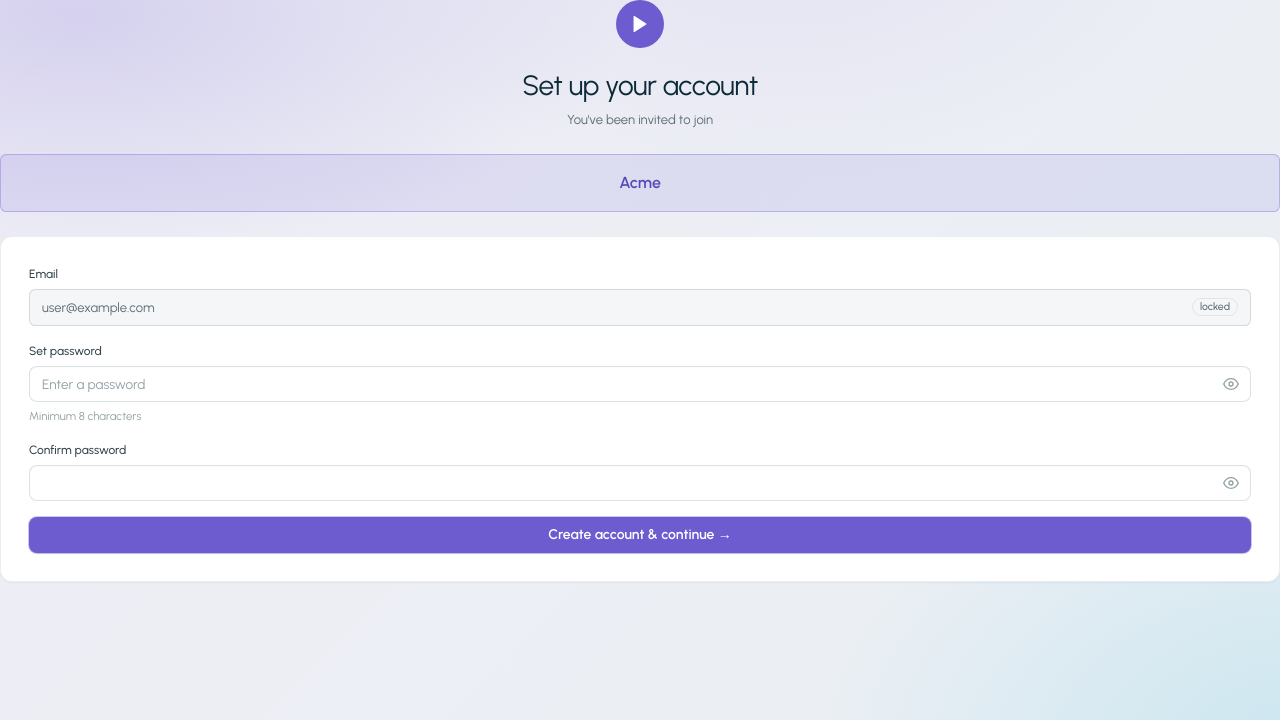
InvitePage (B4) › shows a field-level error when passwords do not match
Check: the text "Acme" is shown, box [619,172,661,192]
Step 1. Type "abcdefgh" into the password field labelled "Set password" → (640, 384), box [29,366,1251,402]
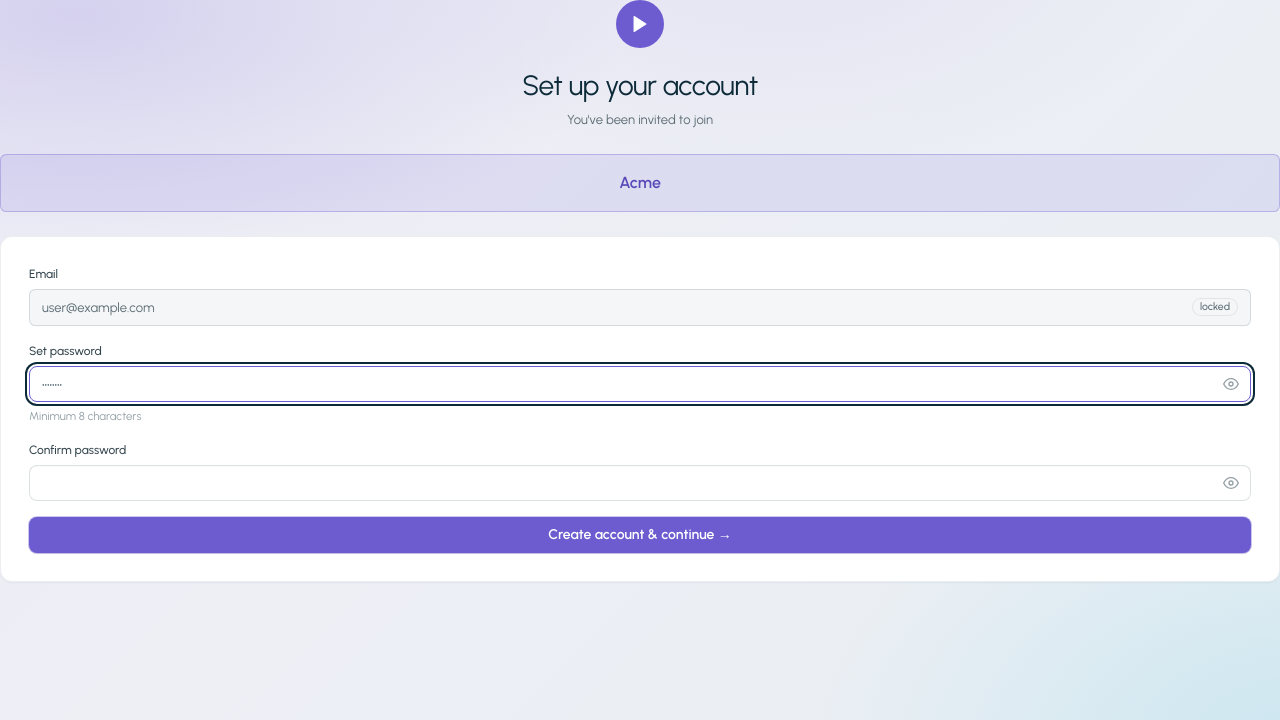
Step 2. Type "different" into the password field labelled "Confirm password" → (640, 483), box [29,465,1251,501]
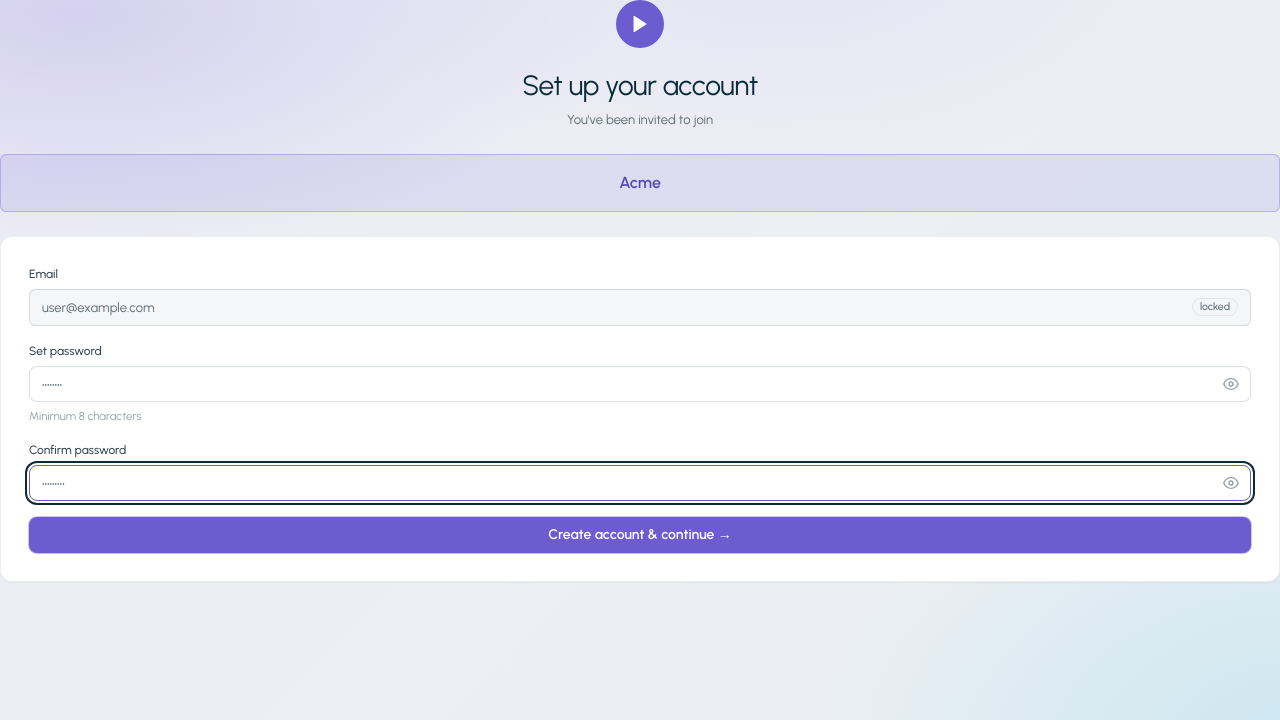
Step 3. Click the button "Create account & continue →" → (640, 535), box [29,517,1251,553]
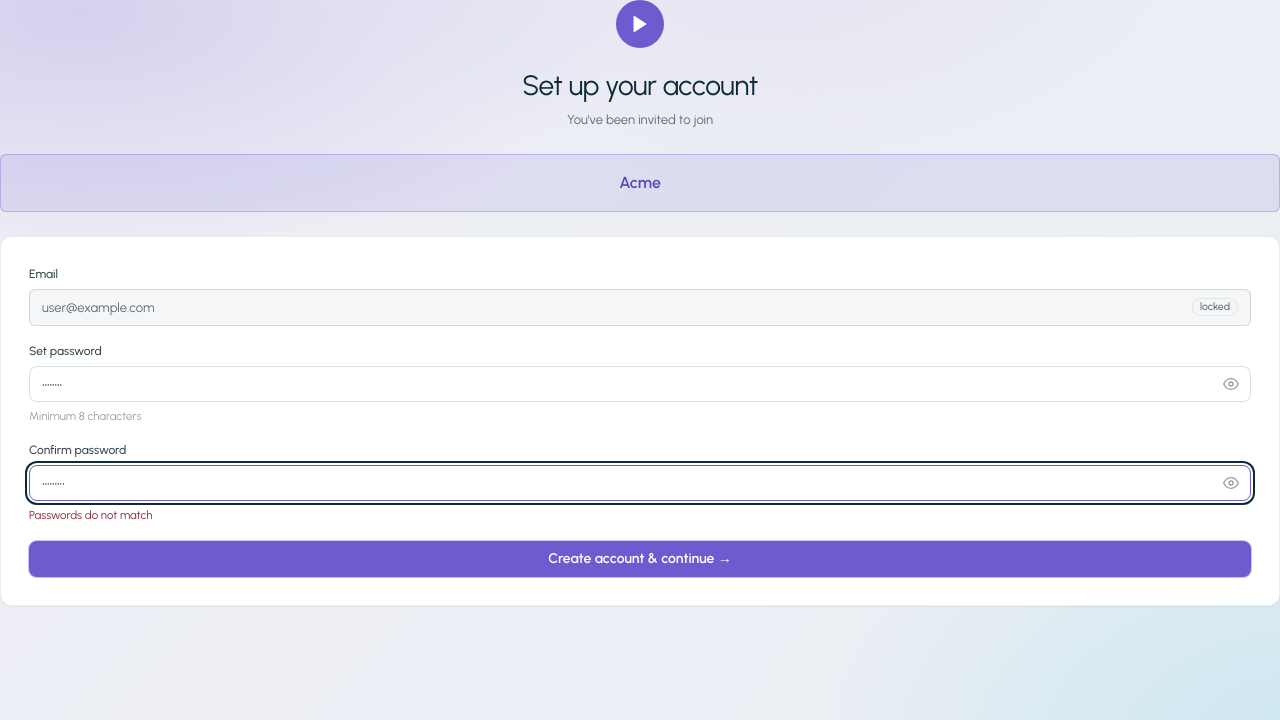
Check: the text "Passwords do not match" is shown, box [29,508,152,522]
